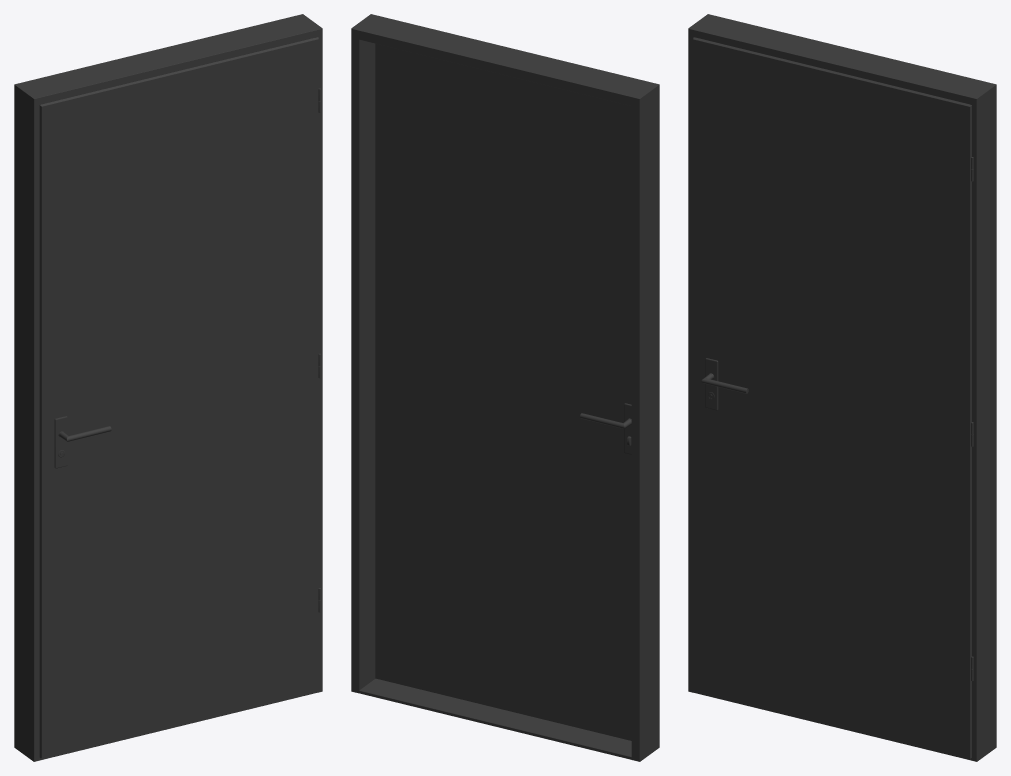
Rendered from UNIB0102004.glb.
3 views of the same model, side by side, from view 1: azimuth 30°, elevation 25°; view 2: azimuth 150°, elevation 25°; view 3: azimuth 330°, elevation 25° (orthographic).
Visible parts, largest first — view 1: Body__3, Front__2, Chrome__4, Ceramic__0; view 2: Body__3, Front__2, Ceramic__0, Chrome__4; view 3: Body__3, Front__2, Chrome__4, Ceramic__0.
Part boxes in pixels (x1,y1,x2,y2): Body__3: (39, 37, 318, 758); Front__2: (14, 14, 322, 761); Chrome__4: (54, 101, 320, 612); Ceramic__0: (40, 691, 316, 760); Body__3: (375, 43, 631, 740); Front__2: (351, 14, 659, 761); Ceramic__0: (357, 678, 632, 759); Chrome__4: (580, 403, 631, 454); Body__3: (693, 37, 971, 758); Front__2: (688, 14, 996, 761); Chrome__4: (701, 169, 973, 681); Ceramic__0: (694, 691, 970, 760).
Bounding box in the file's own units: 0.98 × 2.15 × 0.175.
1 material, 1 textured.
